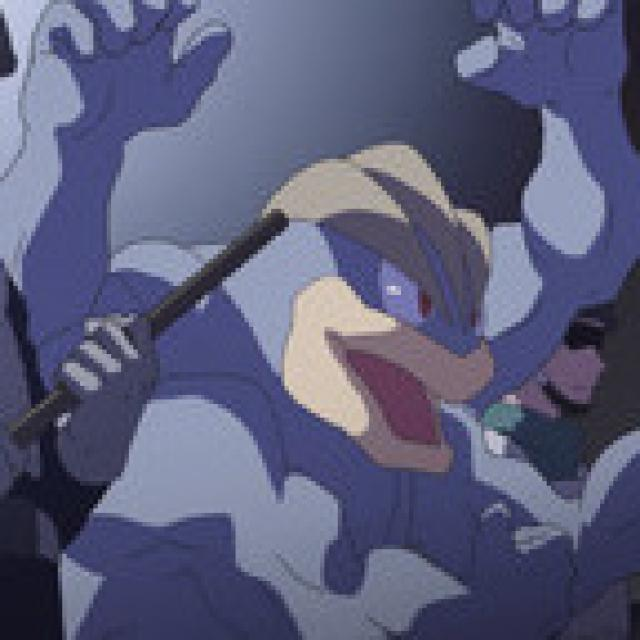Machamp: (19, 0, 615, 640)
